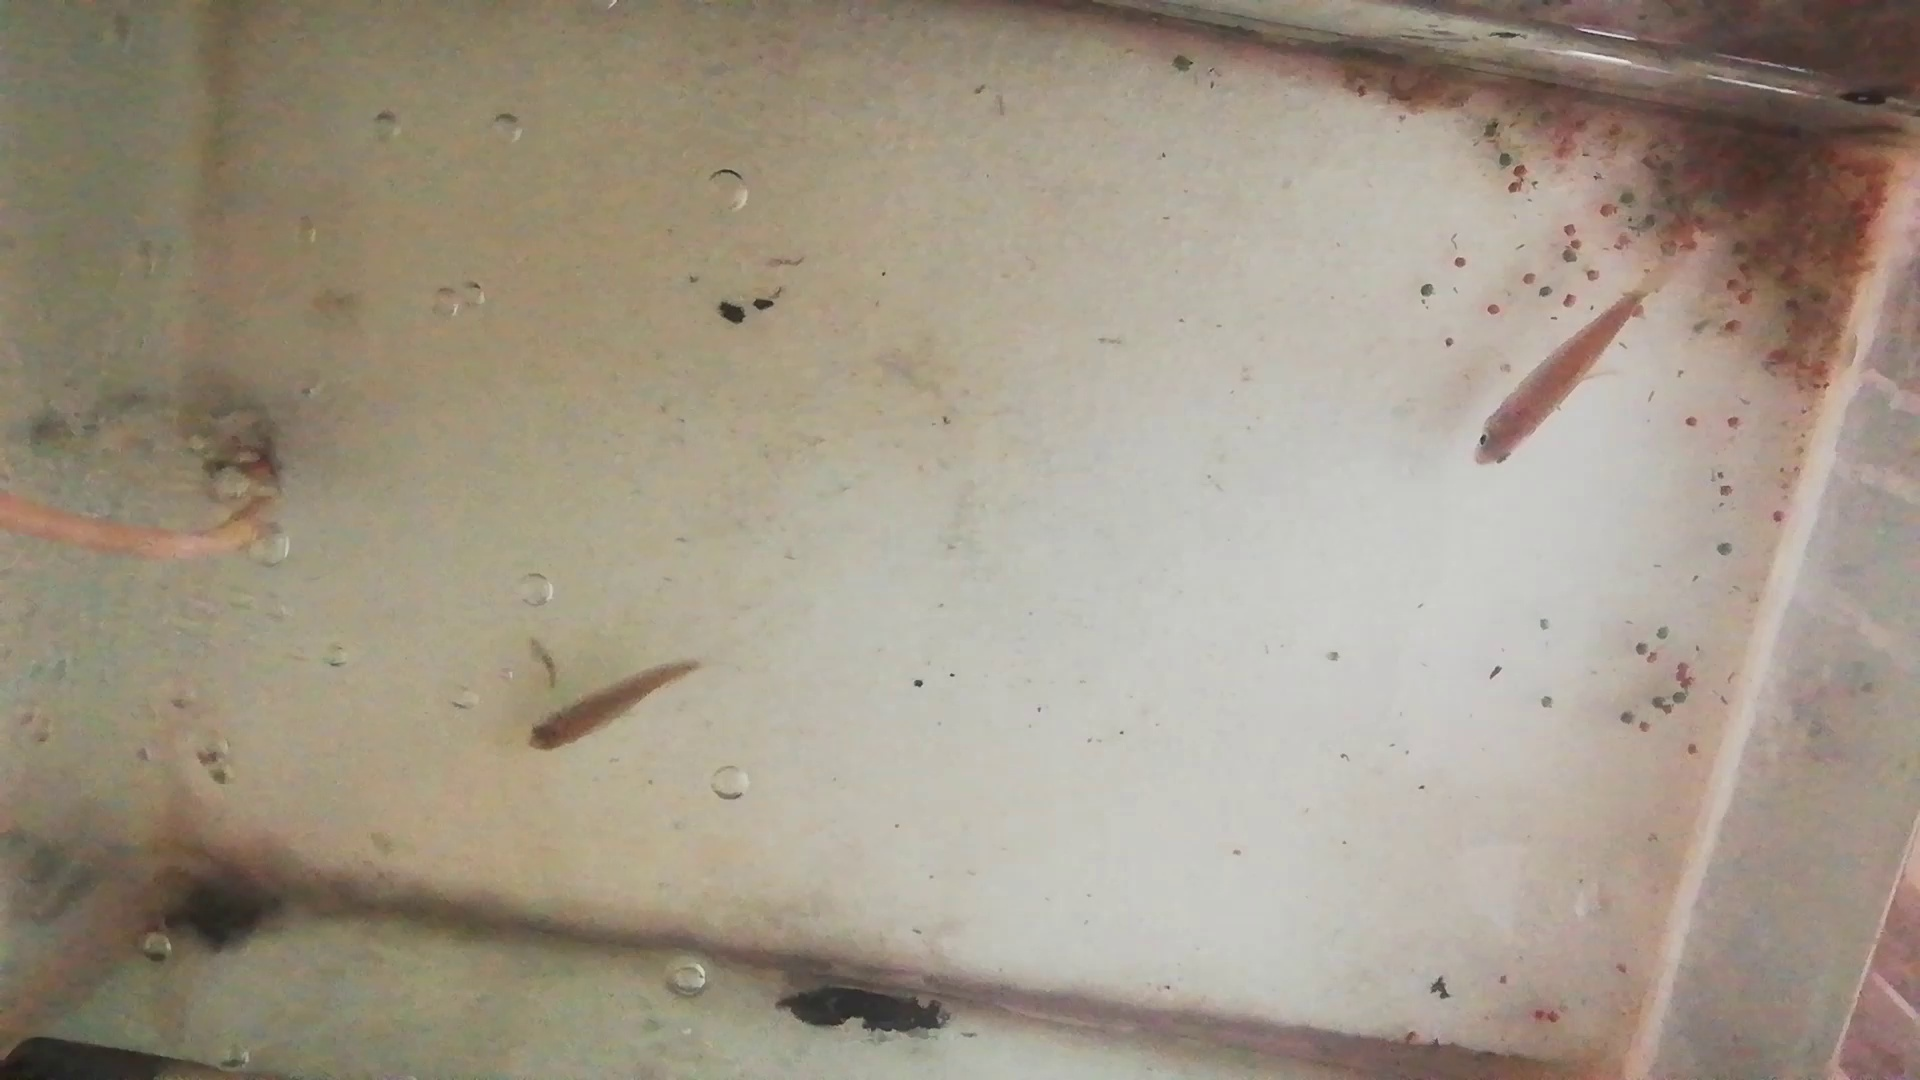fish: (1466, 301, 1636, 464), (521, 662, 702, 752)
